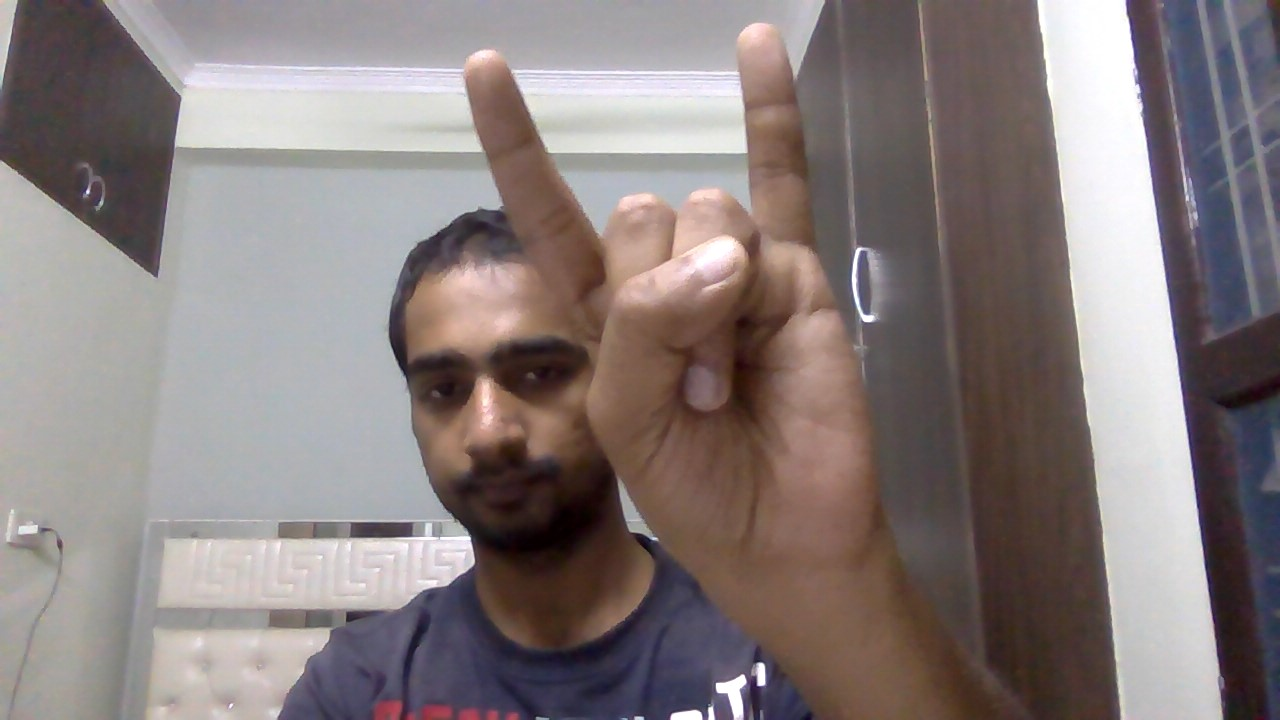Select All: (448, 17, 908, 578)
